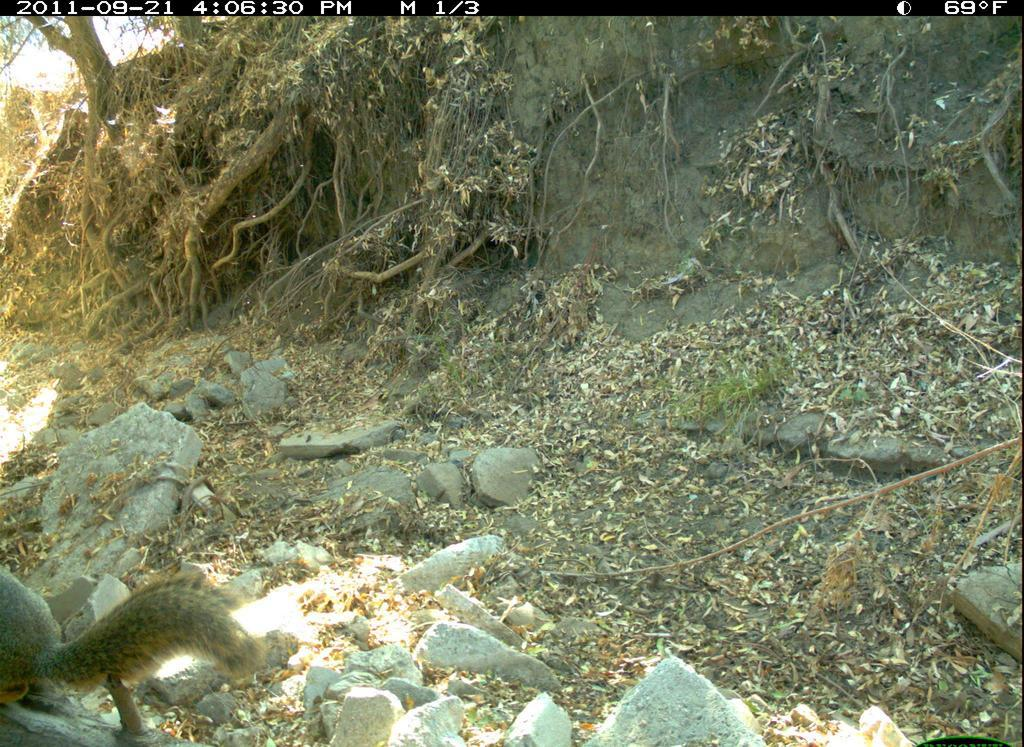squirrel: (2, 559, 258, 724)
